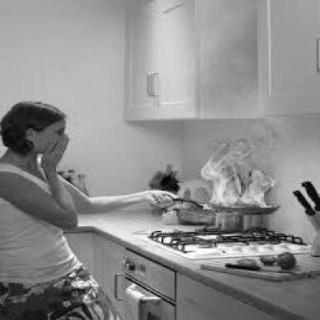Fire: (199, 132, 273, 214)
